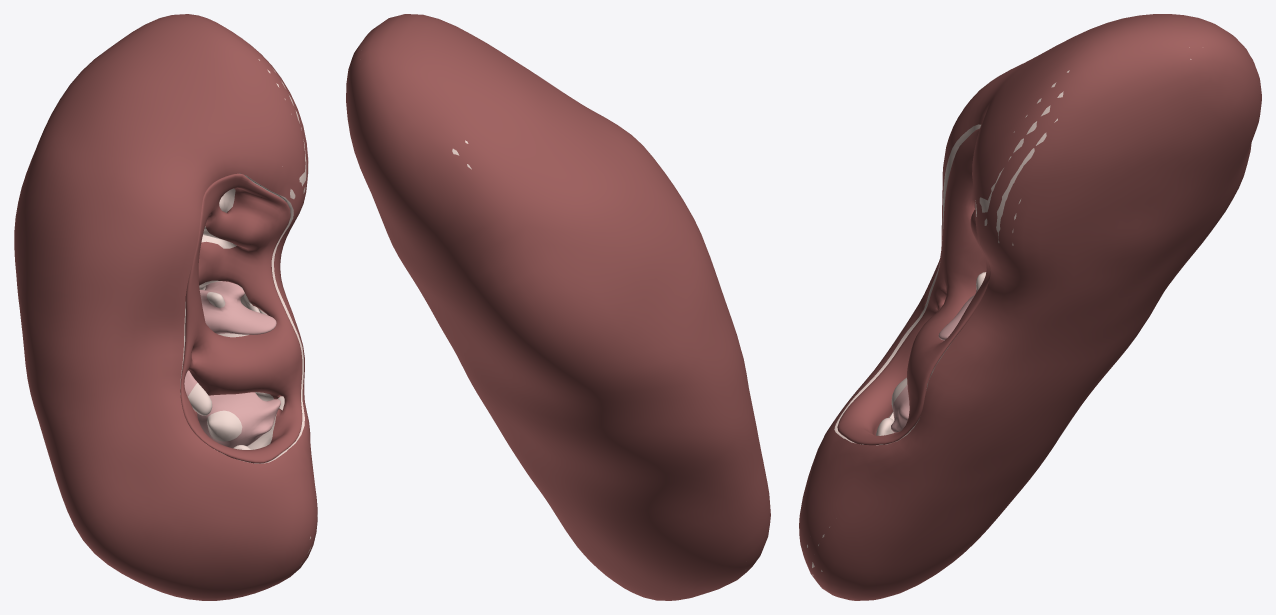
The model's file is kidney-right.glb.
3 views of the same model, side by side, from view 1: azimuth 30°, elevation 25°; view 2: azimuth 150°, elevation 25°; view 3: azimuth 270°, elevation 25° (orthographic). The views are drawn at different scales.
Parts seen in each view (by area): view 1: VH_M_kidney_capsule_R, VH_M_hilum_of_kidney_R, VH_M_renal_pyramid_f, VH_M_renal_pyramid_h, VH_M_outer_cortex_of_kidney_R, VH_M_renal_column_R, VH_M_renal_papilla_R_h, VH_M_renal_papilla_R_g; view 2: VH_M_kidney_capsule_R; view 3: VH_M_kidney_capsule_R, VH_M_hilum_of_kidney_R, VH_M_outer_cortex_of_kidney_R, VH_M_renal_pyramid_h.
Part boxes in pixels (left/top/right/bottom): VH_M_kidney_capsule_R: left=14, top=14, right=317, bottom=600; VH_M_hilum_of_kidney_R: left=180, top=173, right=302, bottom=463; VH_M_renal_pyramid_f: left=199, top=281, right=276, bottom=334; VH_M_renal_pyramid_h: left=197, top=392, right=280, bottom=448; VH_M_outer_cortex_of_kidney_R: left=89, top=59, right=317, bottom=564; VH_M_renal_column_R: left=199, top=188, right=276, bottom=449; VH_M_renal_papilla_R_h: left=207, top=410, right=242, bottom=441; VH_M_renal_papilla_R_g: left=188, top=382, right=212, bottom=415; VH_M_kidney_capsule_R: left=346, top=14, right=770, bottom=600; VH_M_kidney_capsule_R: left=799, top=14, right=1261, bottom=600; VH_M_hilum_of_kidney_R: left=837, top=128, right=990, bottom=445; VH_M_outer_cortex_of_kidney_R: left=807, top=47, right=1191, bottom=575; VH_M_renal_pyramid_h: left=891, top=384, right=909, bottom=432.
Size of the model in its own units: 0.0655 by 0.1125 by 0.0764.
